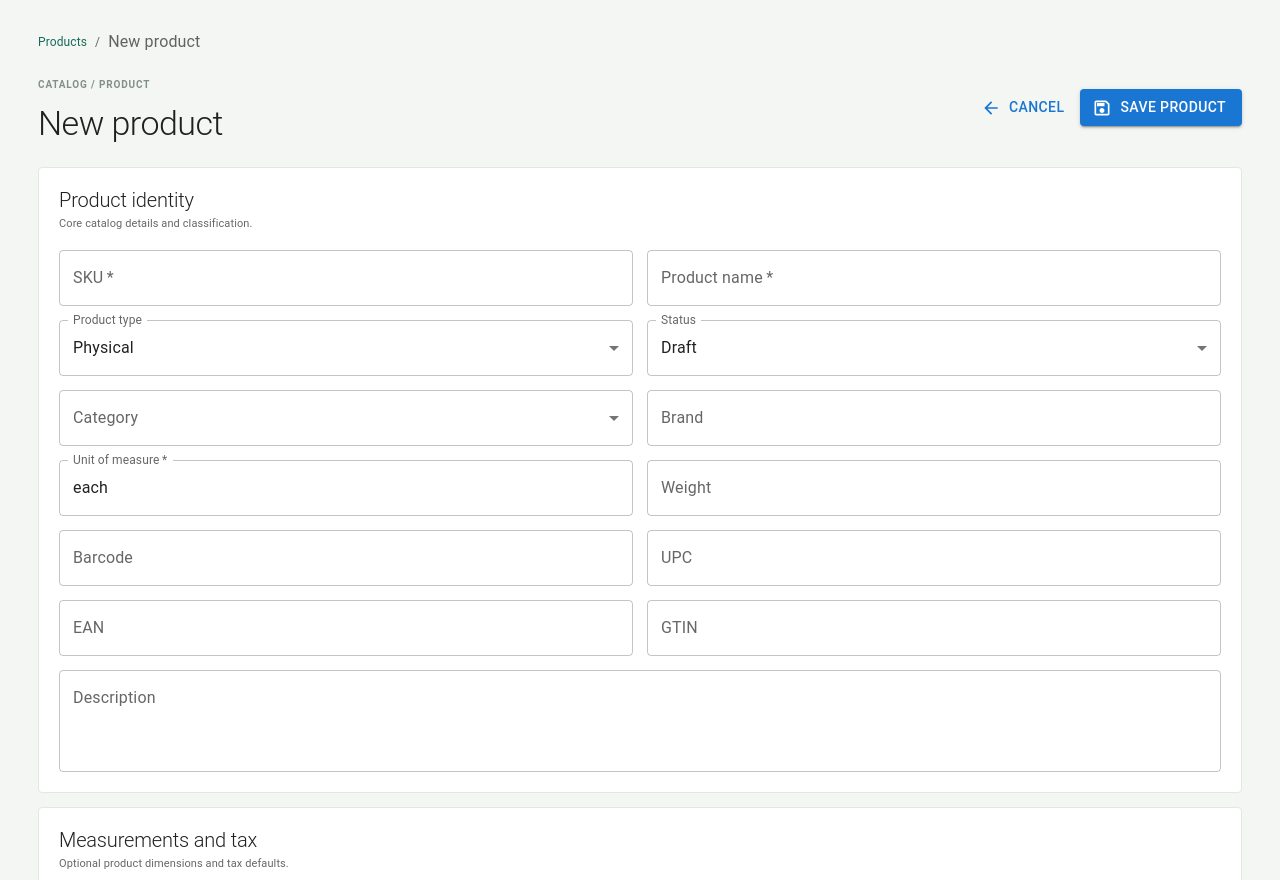
Test: catalog screens › validates a new product before submitting
This screenshot has width=1280, height=880.
Click the button "Save product": (1161, 108) [1080,89,1242,126]
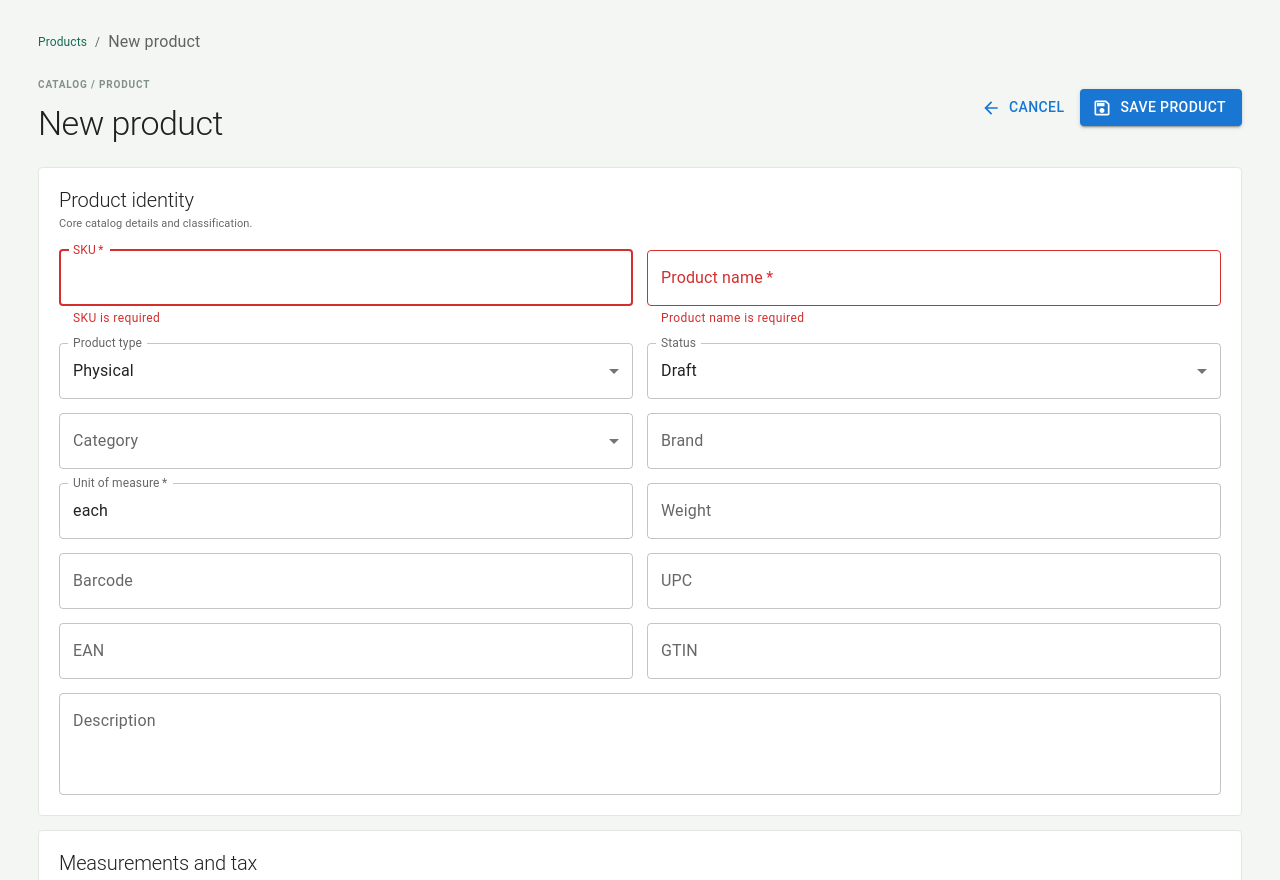
Check: the text "SKU is required" is shown, box [73,311,160,325]
Check: the text "Product name is required" is shown, box [661,311,804,325]
